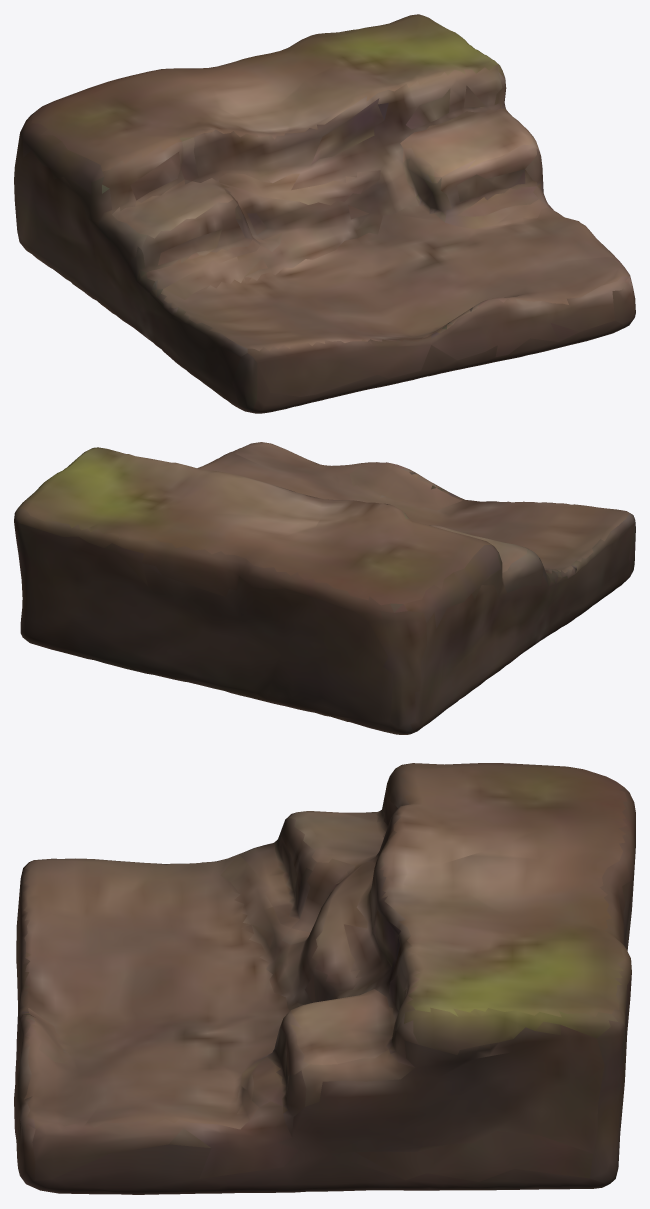
The model's file is m25_terra_rachada.glb.
The picture shows the model from 3 angles, top to bottom: view 1: azimuth 30°, elevation 25°; view 2: azimuth 150°, elevation 25°; view 3: azimuth 270°, elevation 25°; orthographic projection. The views are drawn at different scales.
Visible parts, largest first — view 1: m25_terra_rachada; view 2: m25_terra_rachada; view 3: m25_terra_rachada.
Boxes of the visible parts, bbox=[...] form: m25_terra_rachada: bbox=[14, 14, 635, 413]; m25_terra_rachada: bbox=[14, 442, 635, 734]; m25_terra_rachada: bbox=[14, 763, 635, 1194].
Bounding box in the file's own units: 1.03 × 0.3774 × 1.01.
1 material, 1 textured.
